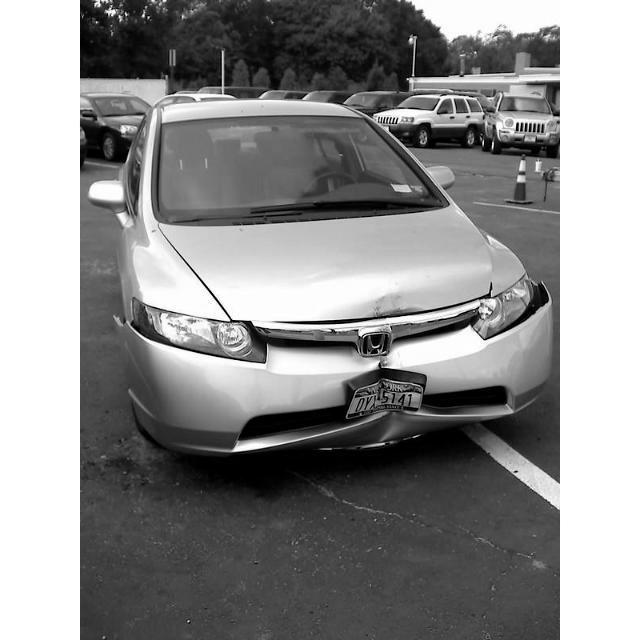bonnet-dent: (211, 227, 500, 334)
front-bumper-dent: (229, 323, 497, 460)
